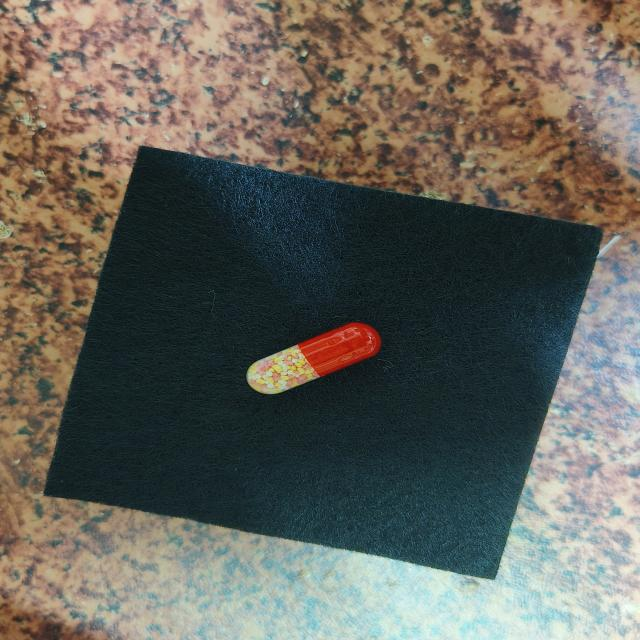Intact Capsule: (246, 322, 382, 394)
